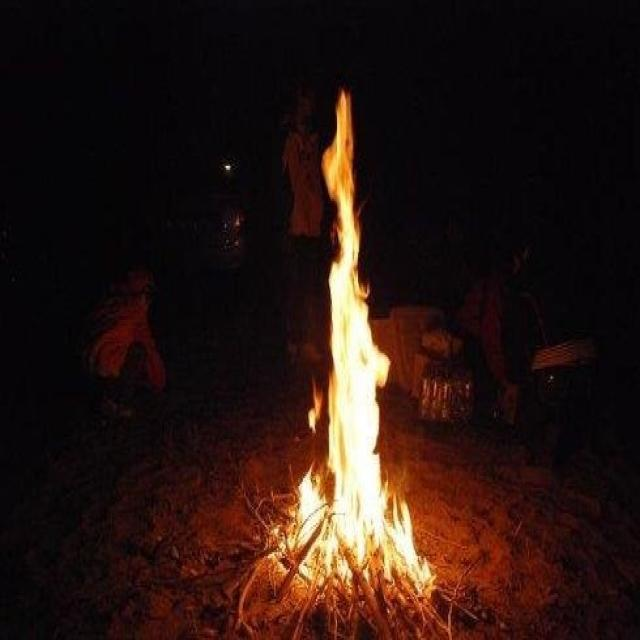Fire: (265, 90, 438, 596)
